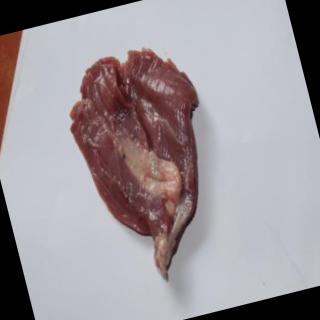Daging Sapi: (58, 39, 241, 292)
